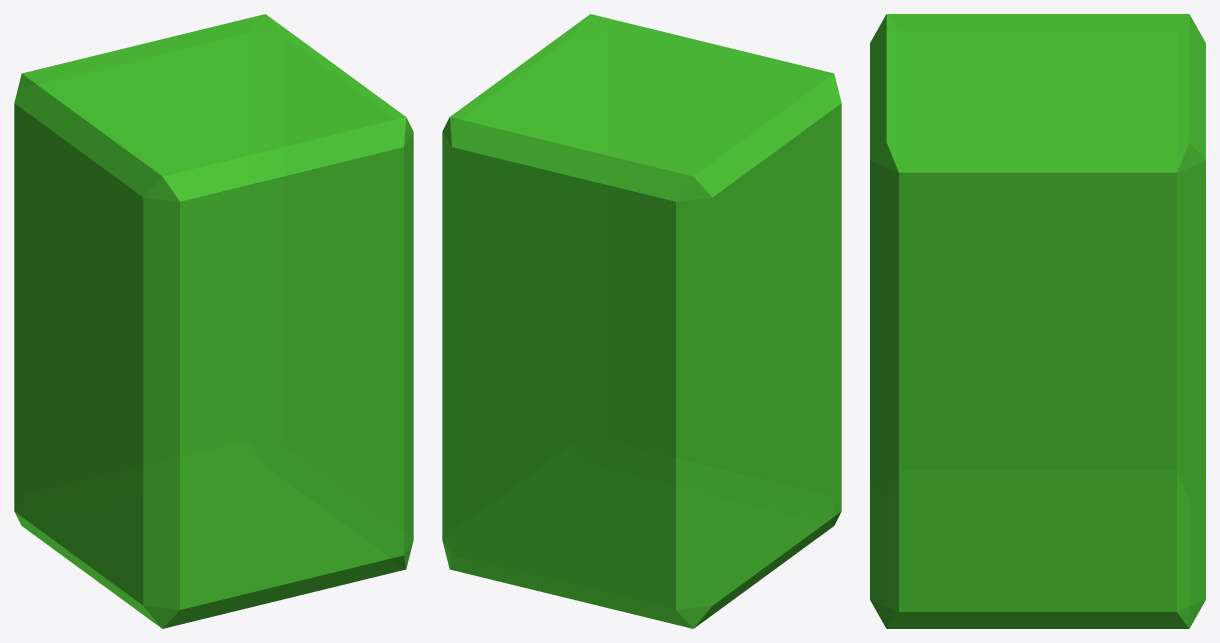
Rendered from Emerald.glb.
The picture shows the model from 3 angles, left to right: view 1: azimuth 30°, elevation 25°; view 2: azimuth 150°, elevation 25°; view 3: azimuth 270°, elevation 25°; orthographic projection. The views are drawn at different scales.
Parts seen in each view (by area): view 1: Cube; view 2: Cube; view 3: Cube.
Part boxes in pixels (x1,y1,x2,y2): Cube: (14, 14, 413, 628); Cube: (442, 14, 841, 628); Cube: (870, 14, 1205, 628).
Bounding box in the file's own units: 2 × 3.2 × 2.
